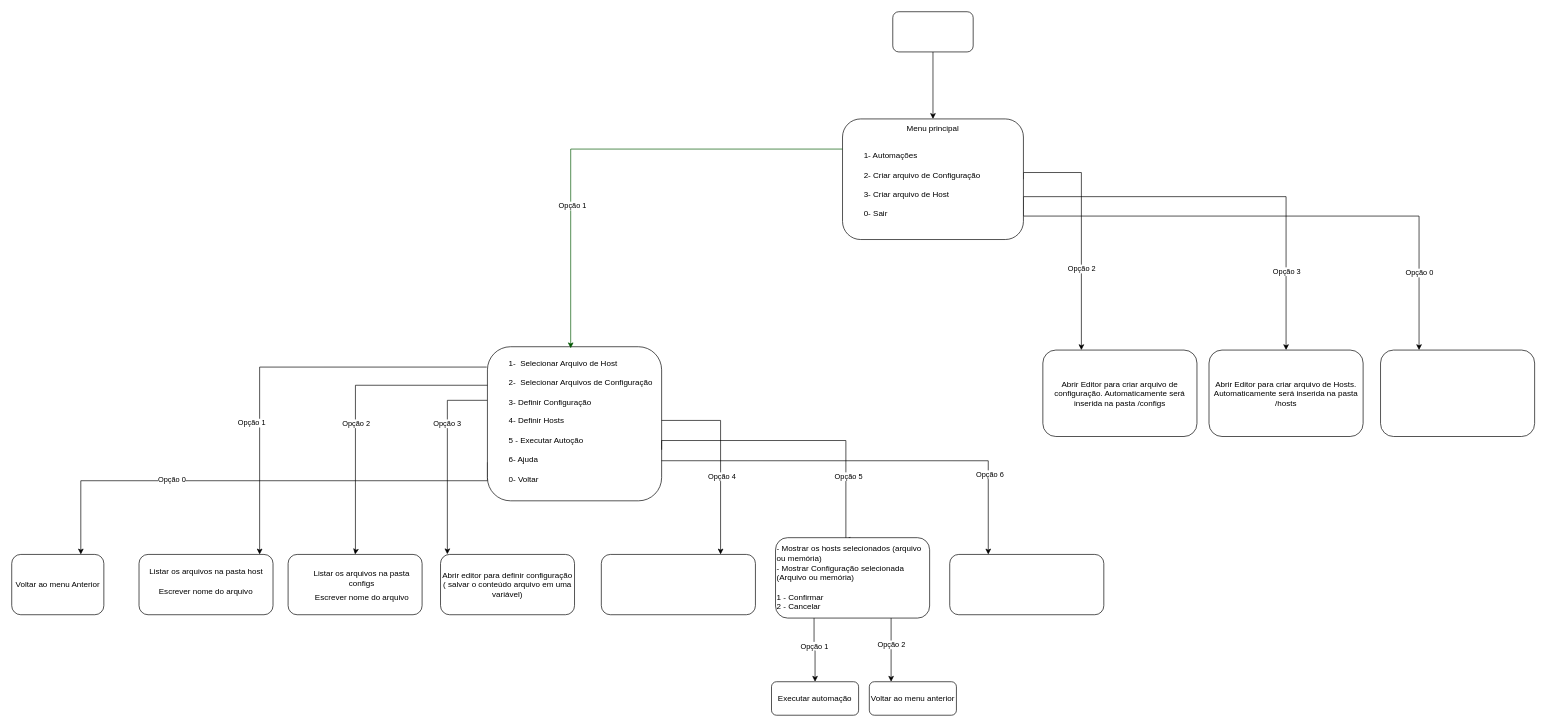
The diagram is 1546 pixels wide and 727 high, and some of its shapes have lost their labels. Each missing label, with the centre of its shape:
Abrir editor para definir os hosts ( salvar o conteúdo arquivo em uma variável): (x=678, y=584)
Banner: (x=932, y=31)
Encerrar Script: (x=1457, y=393)
Mostrar um info. Dizendo o que cada item significa: (x=1026, y=584)
